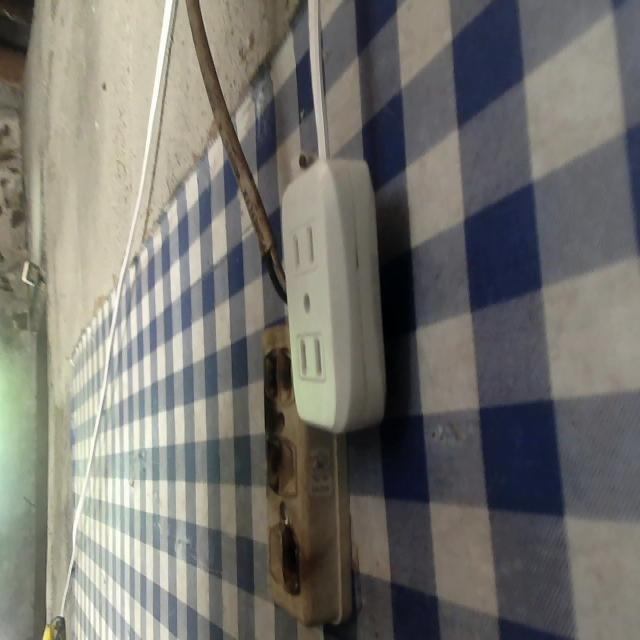-: (260, 344, 295, 405), (280, 521, 306, 592), (259, 433, 285, 488)
